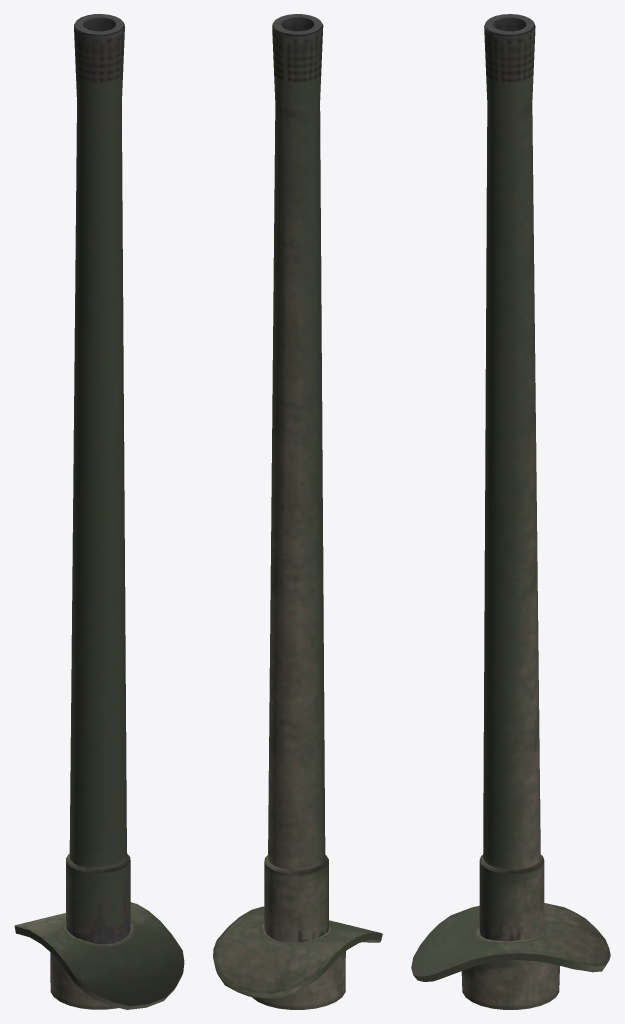
Rendered from Gun_05.glb.
3 views of the same model, side by side, from view 1: azimuth 30°, elevation 25°; view 2: azimuth 150°, elevation 25°; view 3: azimuth 270°, elevation 25° (orthographic).
Parts seen in each view (by area): view 1: set_0_group_0; view 2: set_0_group_0; view 3: set_0_group_0.
Boxes of the visible parts, left/top/right/bottom form: set_0_group_0: left=14, top=14, right=184, bottom=1009; set_0_group_0: left=213, top=14, right=382, bottom=1009; set_0_group_0: left=411, top=14, right=610, bottom=1009.
Size of the model in its own units: 0.2368 by 2.03 by 0.3795.
1 material, 1 textured.
